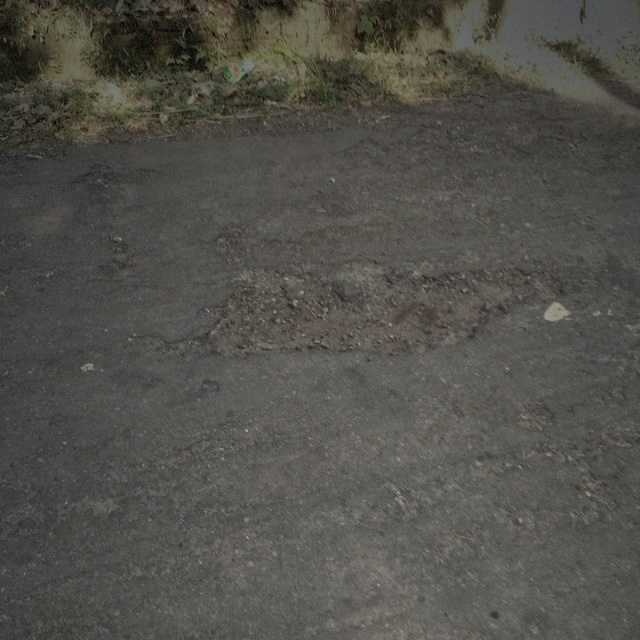pothole: (198, 257, 566, 364), (72, 162, 159, 186)
